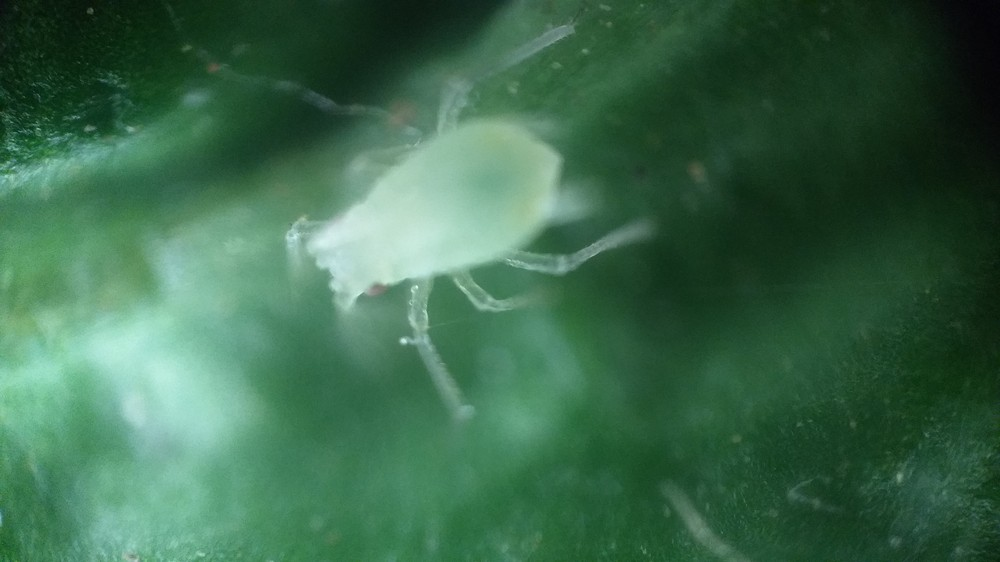Pulgon: (250, 23, 689, 422)
